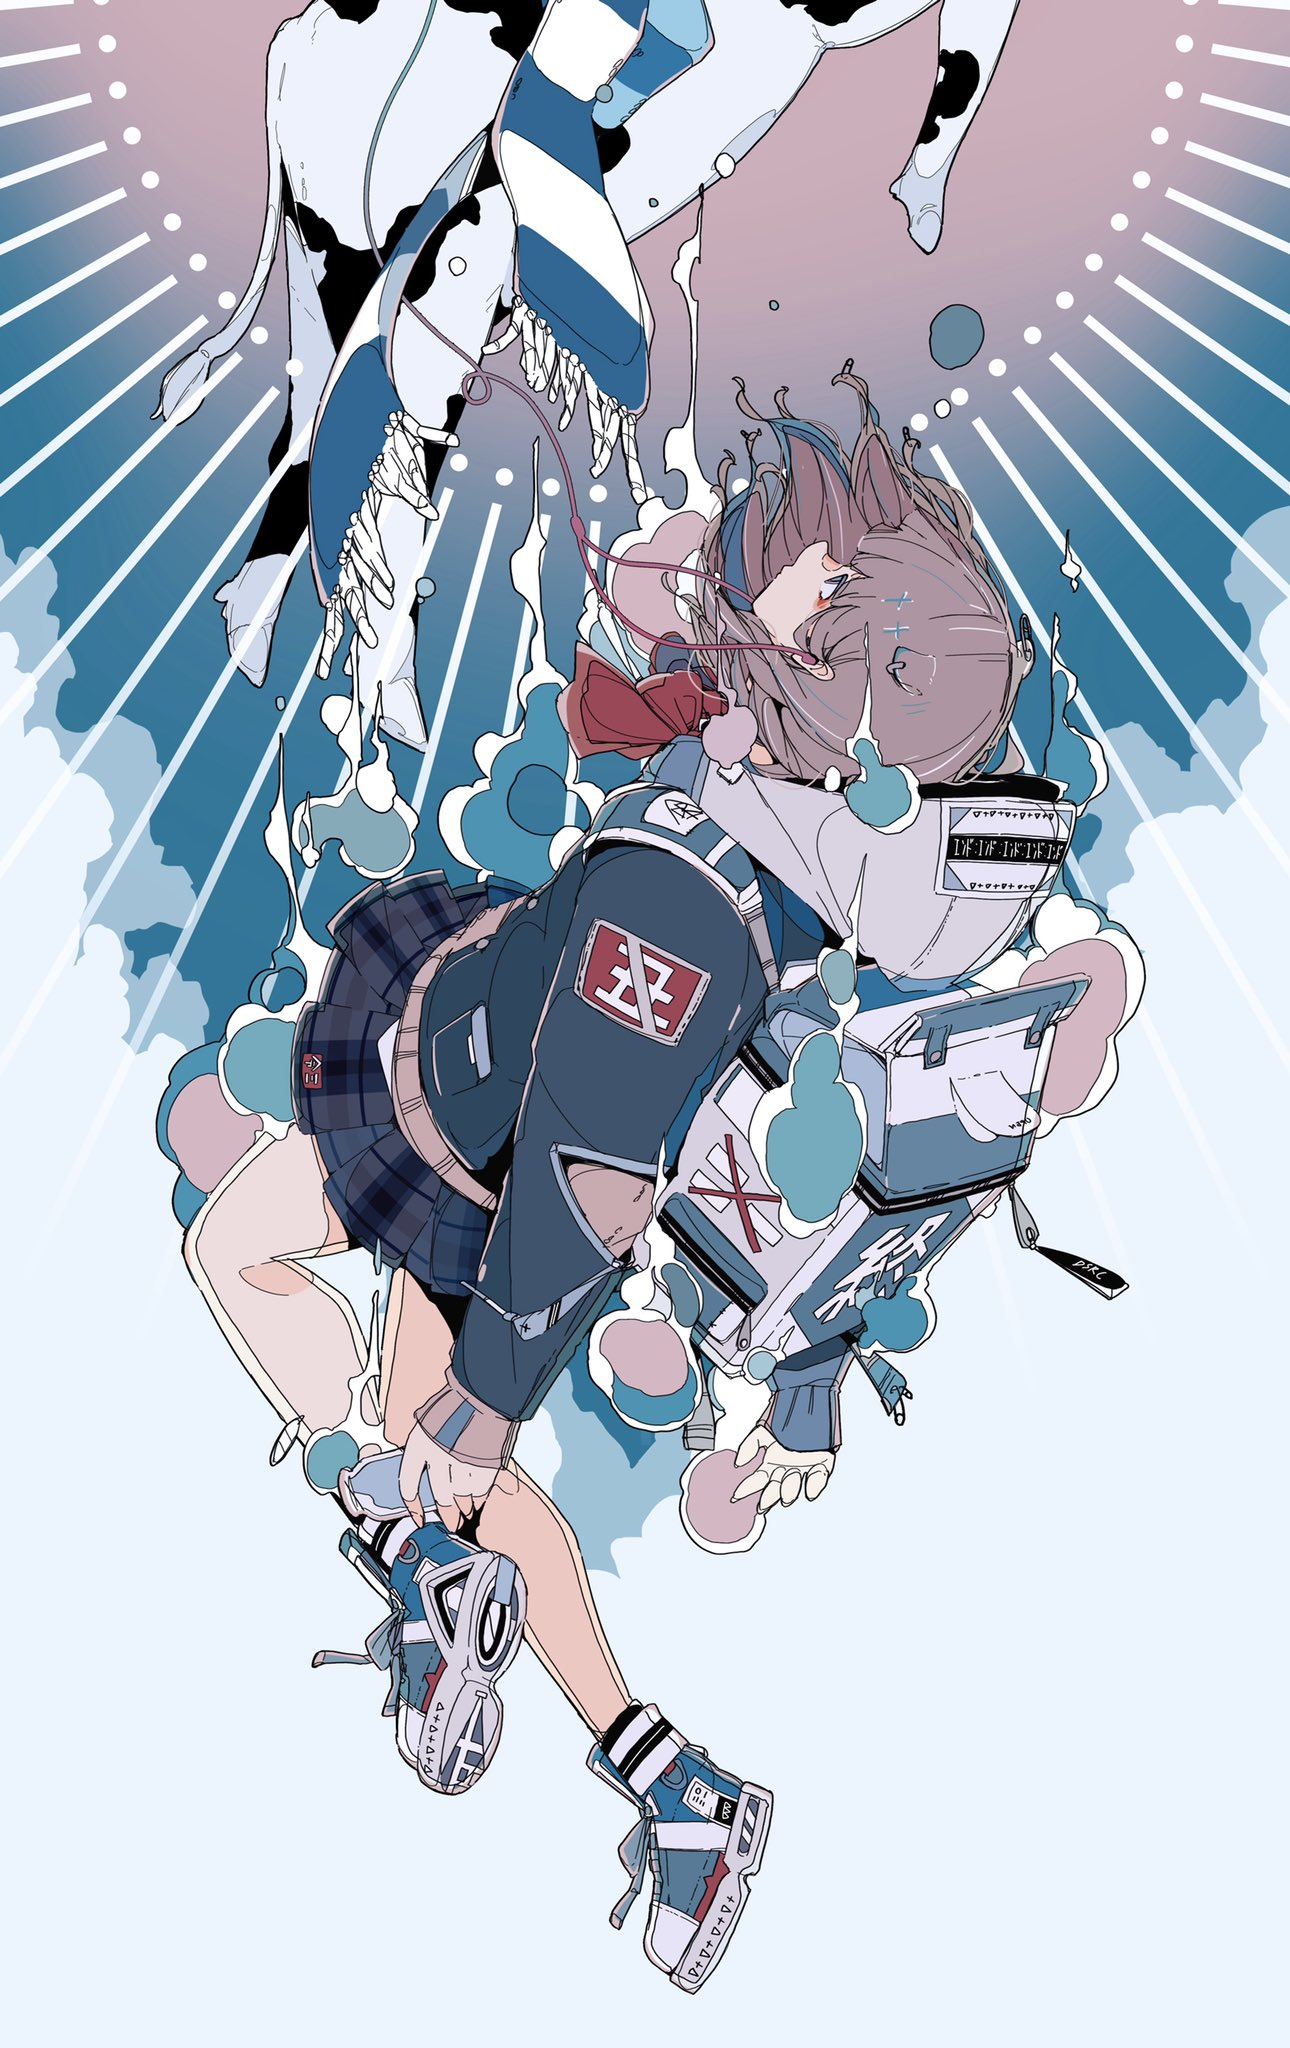p: (141, 265, 1161, 2005)
